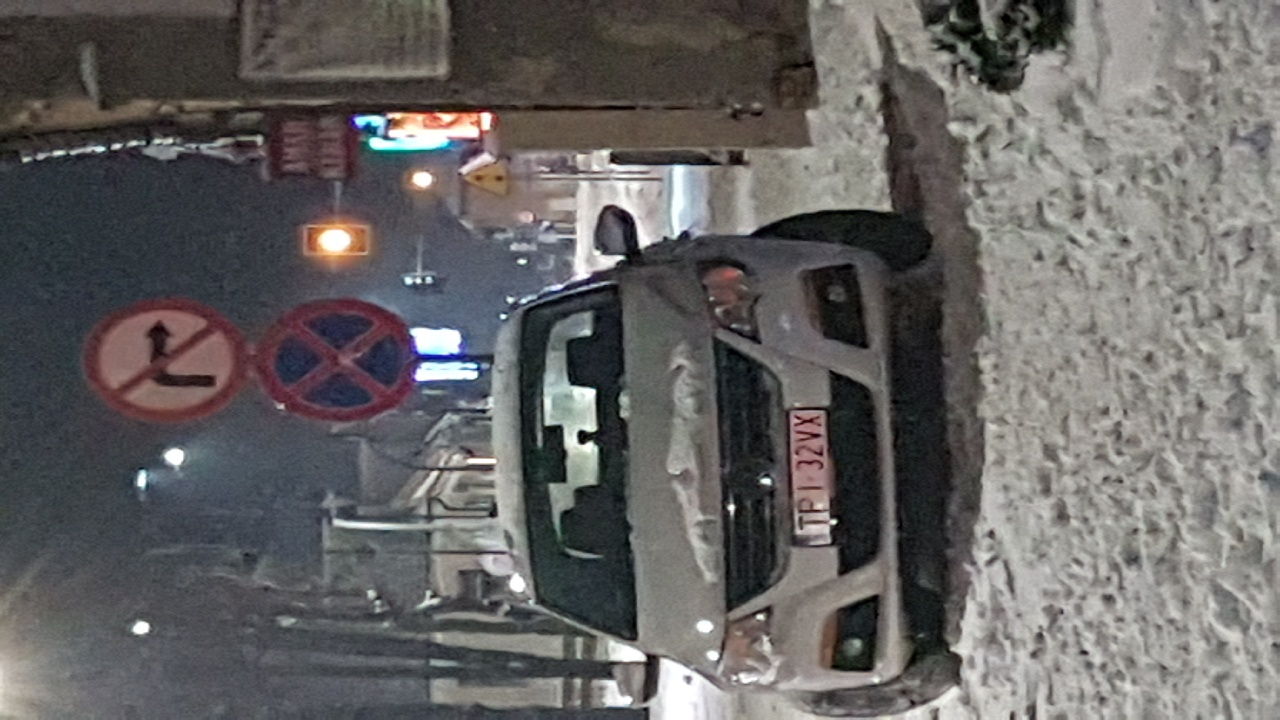B22: (67, 301, 248, 415)
B35: (255, 302, 426, 422)
